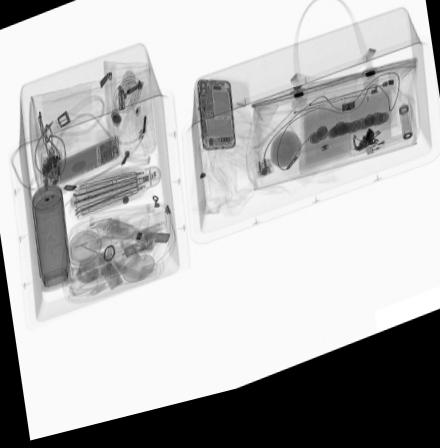Lighter: (350, 156, 385, 176)
